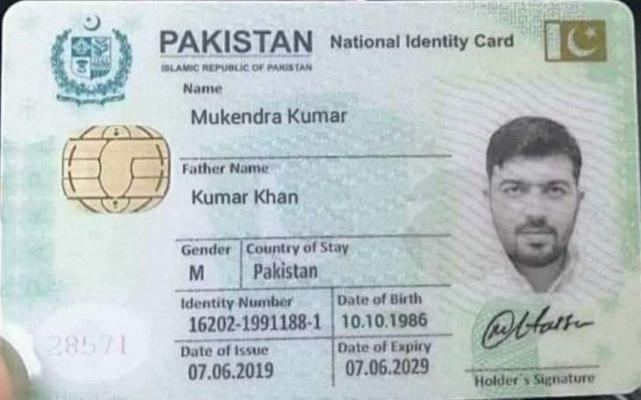fname: (188, 184, 304, 211)
name: (185, 103, 349, 128)
number: (186, 309, 324, 336)
